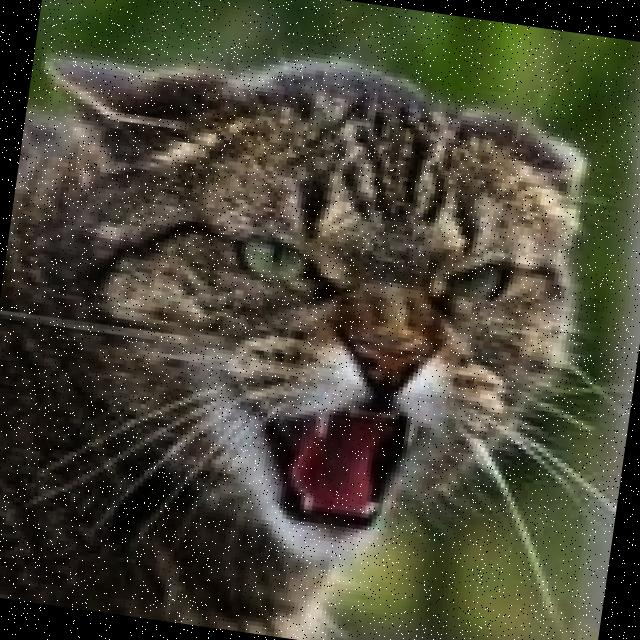Angry: (118, 156, 577, 583)
